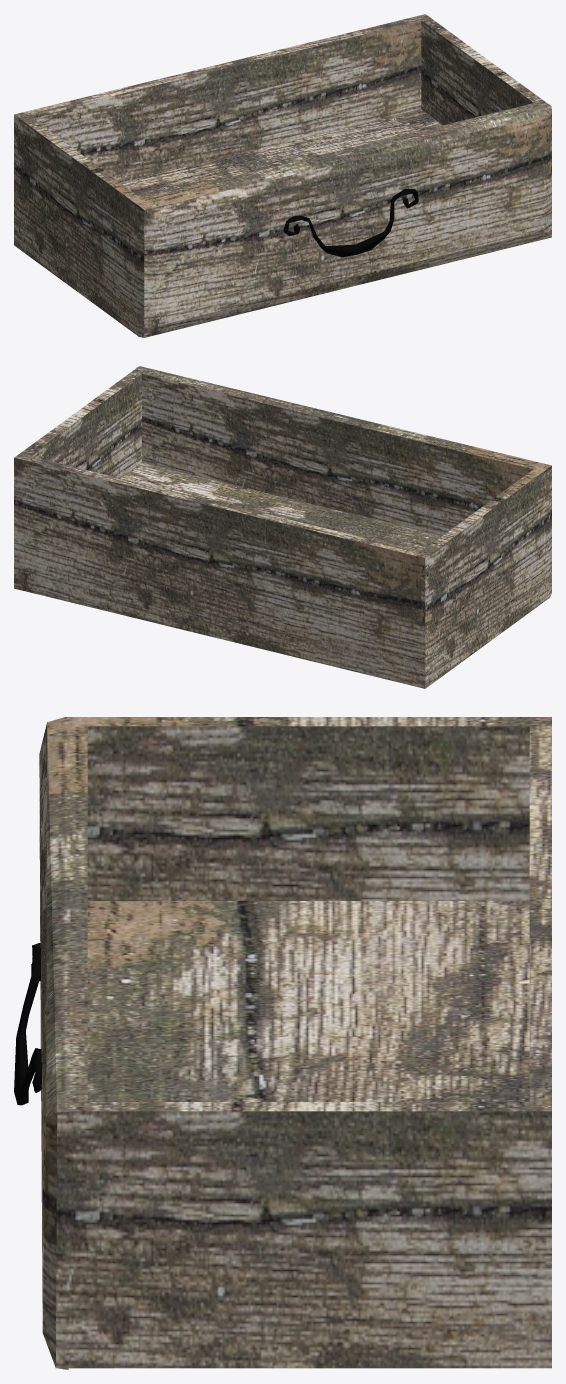
File: cajon.FBX
3 renders of one model, top to bottom at view 1: azimuth 30°, elevation 25°; view 2: azimuth 150°, elevation 25°; view 3: azimuth 270°, elevation 25°, orthographic. The views are drawn at different scales.
Parts seen in each view (by area): view 1: Box493, cajon, Line20, Line19; view 2: Box493, cajon; view 3: Box493, cajon, Line19, Line20.
Part boxes in pixels (x1,y1,x2,y2): Box493: (14, 14, 549, 335); cajon: (138, 104, 551, 337); Line20: (355, 189, 418, 254); Line19: (283, 215, 357, 257); Box493: (14, 367, 548, 688); cajon: (136, 366, 551, 598); Box493: (65, 717, 551, 1368); cajon: (39, 717, 68, 1369); Line19: (14, 943, 40, 1090); Line20: (14, 1048, 41, 1105).
Size of the model in its own units: 16.64 by 5.07 by 9.58.
